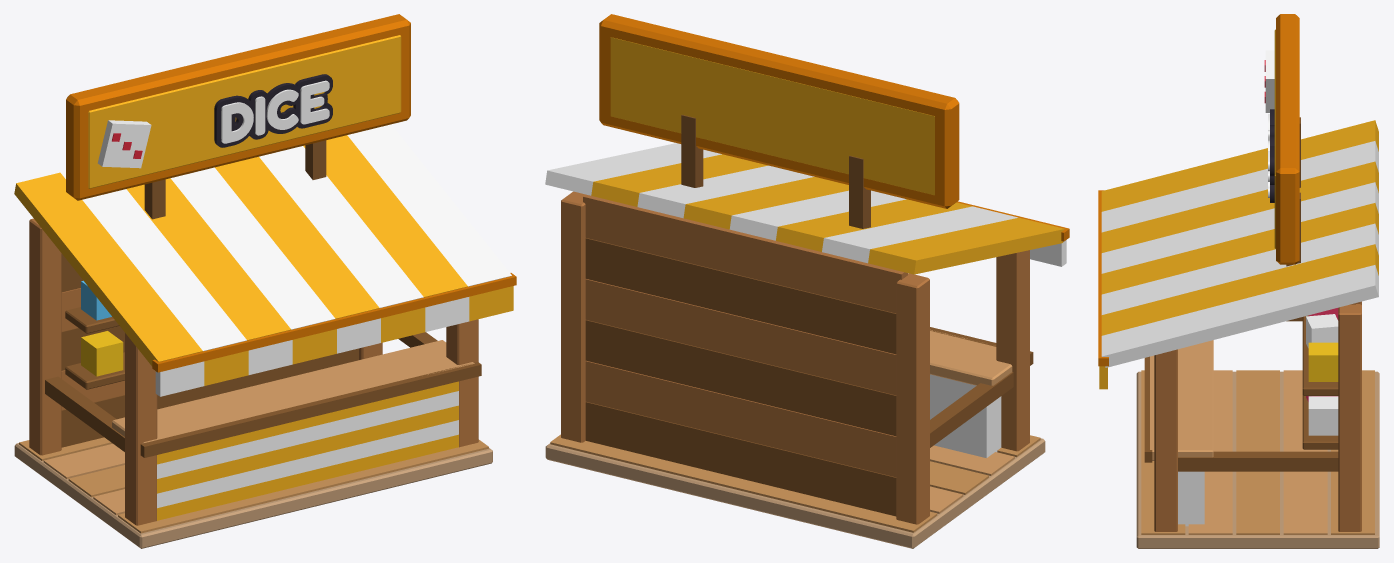
File: shop_dice.fbx
3 views of the same model, side by side, from view 1: azimuth 30°, elevation 25°; view 2: azimuth 150°, elevation 25°; view 3: azimuth 270°, elevation 25° (orthographic). The views are drawn at different scales.
Parts seen in each view (by area): view 1: Cube.058, Cube.057, Cube.038, Cube.036, Cube.039, Cube.041, Cube.045, Cube.042, Cube.043, Cube.044, Cube, Cube.040 (+35 smaller); view 2: Cube.058, Cube.057, Cube.015, Cube.011, Cube.012, Cube.013, Cube.014, Cube.010, Cube, Cube.007, Cube.009, Cube.038 (+17 smaller); view 3: Cube.045, Cube, Cube.003, Cube.057, Cube.044, Cube.043, Cube.009, Cube.041, Cube.042, Cube.040, Cube.038, Cube.039 (+18 smaller).
Part boxes in pixels (x1,y1,x2,y2): Cube.058: [88, 35, 401, 188]; Cube.057: [66, 14, 410, 200]; Cube.038: [14, 172, 202, 371]; Cube.036: [112, 340, 474, 443]; Cube.039: [60, 171, 246, 351]; Cube.041: [170, 167, 335, 329]; Cube.045: [347, 124, 511, 286]; Cube.042: [215, 156, 379, 318]; Cube.043: [259, 146, 423, 307]; Cube.044: [303, 135, 467, 297]; Cube: [14, 443, 492, 548]; Cube.040: [126, 178, 291, 340]; Cube.058: [610, 37, 934, 195]; Cube.057: [599, 14, 959, 208]; Cube.015: [583, 194, 907, 313]; Cube.011: [585, 360, 896, 477]; Cube.012: [585, 320, 896, 436]; Cube.013: [585, 279, 896, 395]; Cube.014: [585, 238, 896, 354]; Cube.010: [585, 401, 896, 516]; Cube: [545, 438, 1045, 548]; Cube.007: [896, 273, 929, 524]; Cube.009: [561, 191, 585, 442]; Cube.038: [868, 217, 1064, 274]; Cube.045: [1101, 265, 1378, 367]; Cube: [1136, 371, 1379, 548]; Cube.003: [1236, 370, 1279, 534]; Cube.057: [1276, 14, 1299, 264]; Cube.044: [1101, 244, 1378, 335]; Cube.043: [1101, 223, 1378, 314]; Cube.009: [1338, 304, 1361, 531]; Cube.041: [1101, 182, 1378, 273]; Cube.042: [1101, 203, 1378, 294]; Cube.040: [1101, 161, 1378, 252]; Cube.038: [1101, 120, 1378, 211]; Cube.039: [1101, 141, 1378, 232].
Size of the model in its own units: 13.4 by 14 by 9.49.
